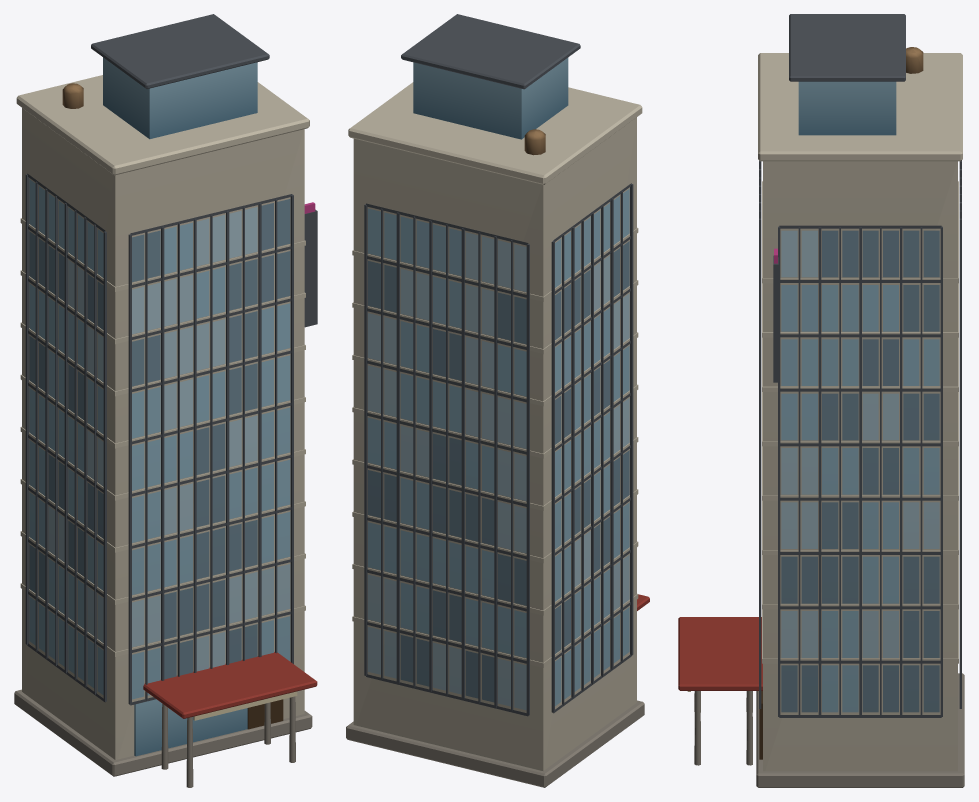
The model's file is hotel_tower_01.glb.
3 views of the same model, side by side, from view 1: azimuth 30°, elevation 25°; view 2: azimuth 150°, elevation 25°; view 3: azimuth 270°, elevation 25° (orthographic). The views are drawn at different scales.
Parts seen in each view (by area): view 1: hotel_tower_01; view 2: hotel_tower_01; view 3: hotel_tower_01.
Part boxes in pixels (left/top/right/bottom): hotel_tower_01: left=14, top=14, right=317, bottom=787; hotel_tower_01: left=346, top=14, right=649, bottom=787; hotel_tower_01: left=678, top=14, right=964, bottom=787.
Size of the model in its own units: 7.87 by 23.7 by 8.8.
